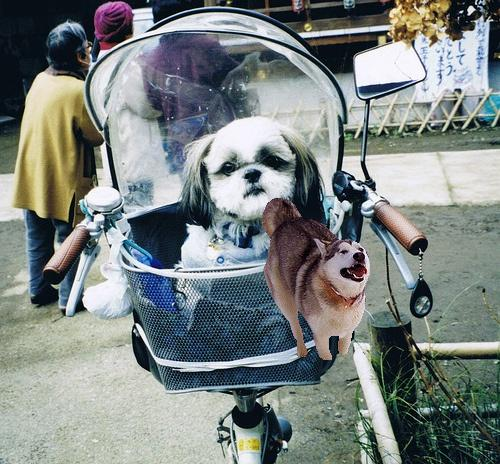tampered: (263, 199, 370, 360)
